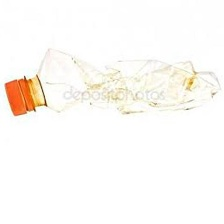bottle: (0, 44, 224, 120)
